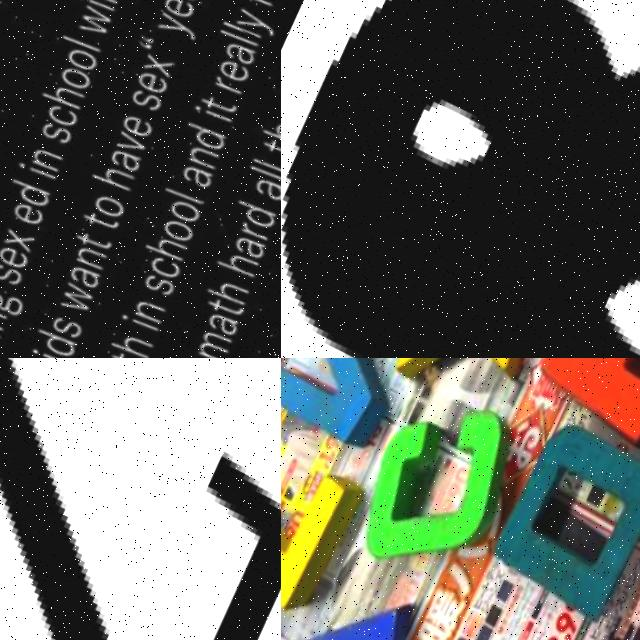8: (281, 0, 640, 358)
C: (324, 374, 532, 593)
D: (460, 404, 640, 632)
E: (505, 358, 640, 470)
L: (281, 425, 373, 631)
N: (281, 555, 445, 640)
V: (281, 358, 418, 463)
X: (363, 358, 580, 425)
Z: (0, 358, 281, 640)
